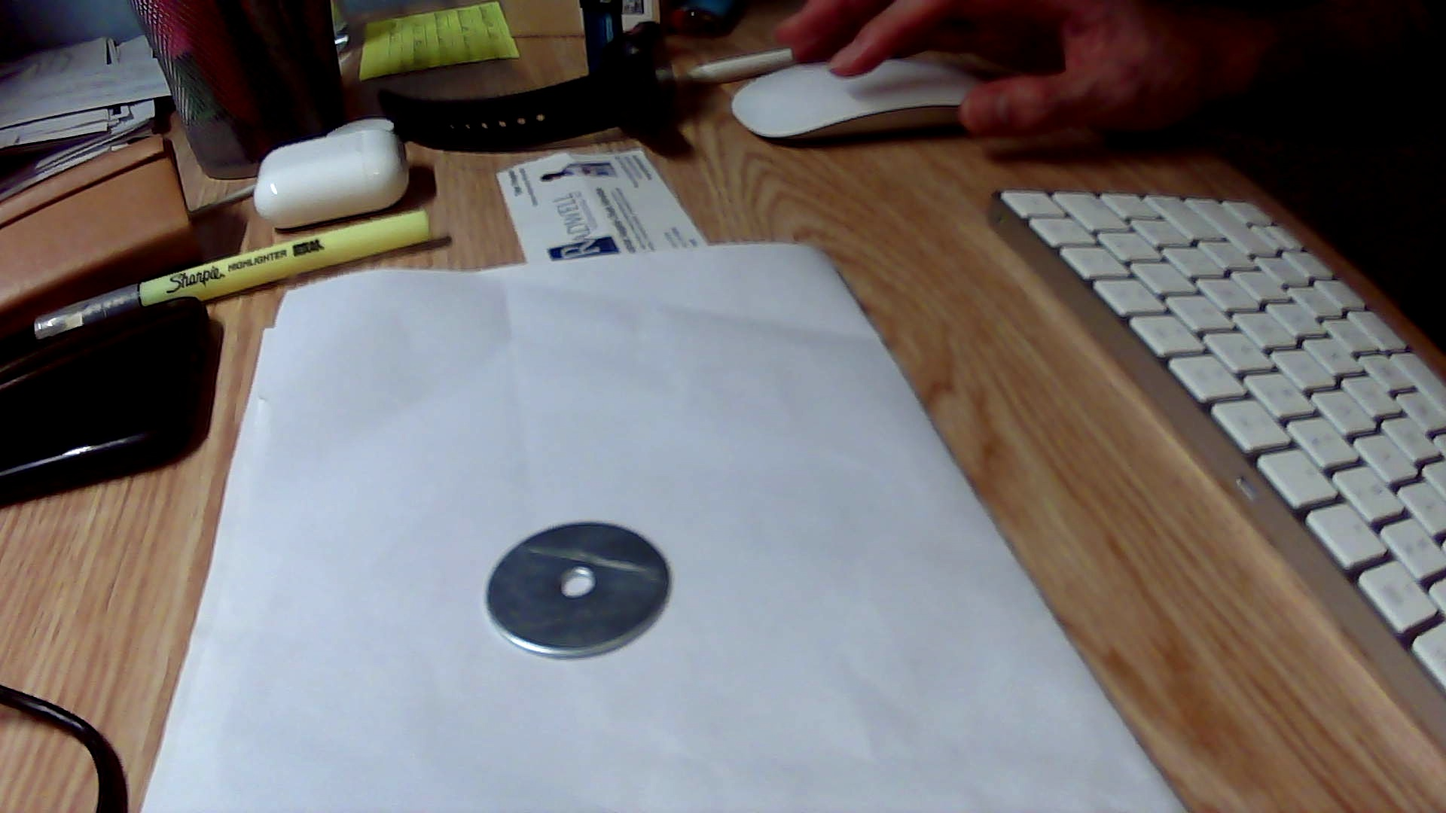DetectiveWashers: (510, 534, 662, 580)
